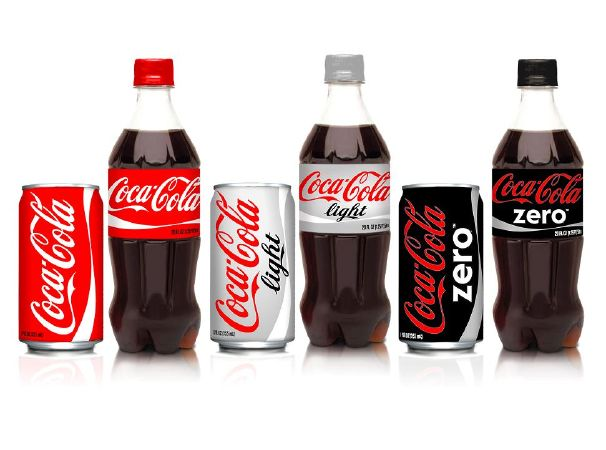cocacola: (24, 189, 78, 335), (213, 189, 263, 334), (403, 198, 449, 335), (107, 174, 200, 217), (492, 173, 582, 208), (300, 169, 389, 204)
